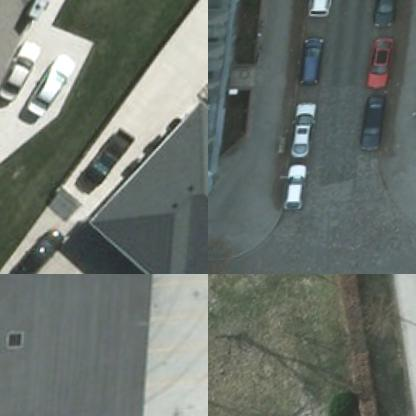car: (24, 56, 82, 119), (0, 39, 47, 102), (13, 229, 74, 273), (358, 102, 390, 157), (292, 105, 321, 162), (364, 38, 392, 93), (294, 40, 324, 88), (285, 164, 311, 214), (368, 0, 398, 32), (305, 0, 335, 20), (208, 259, 215, 273)
pickup: (84, 130, 140, 187)
